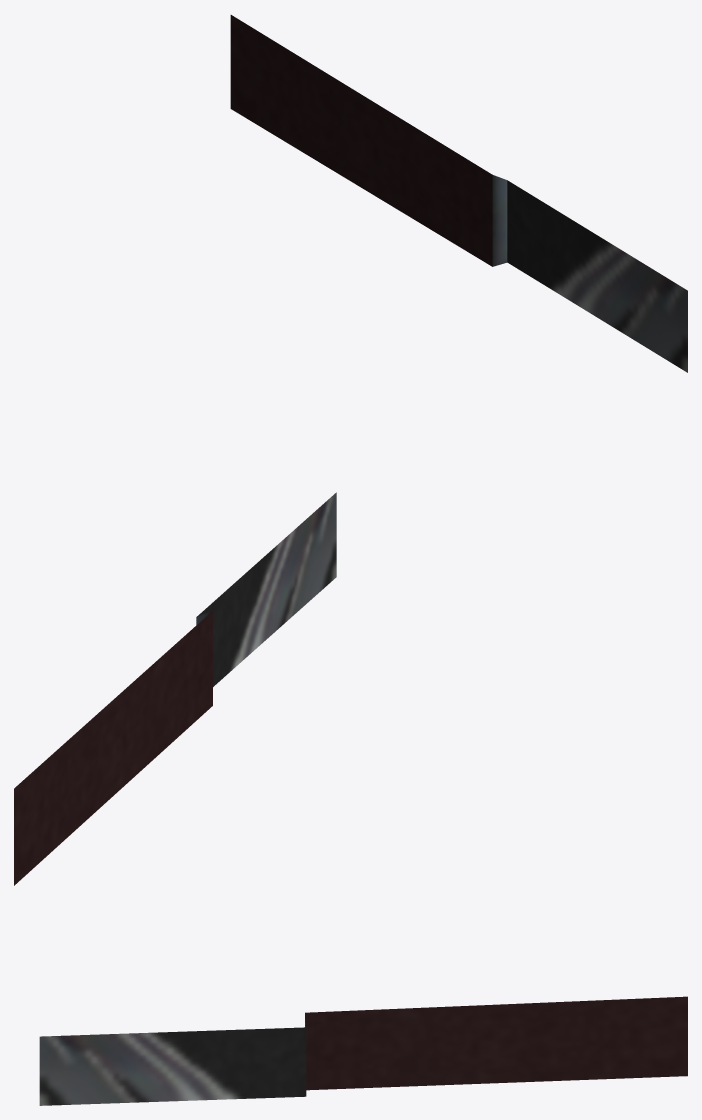
3 views of the same model, one above another, from view 1: azimuth 30°, elevation 25°; view 2: azimuth 150°, elevation 25°; view 3: azimuth 270°, elevation 25° (orthographic). The views are drawn at different scales.
Parts seen in each view (by area): view 1: 5_0.glb_1; view 2: 5_0.glb_1; view 3: 5_0.glb_1.
Part boxes in pixels (x1,y1,x2,y2): 5_0.glb_1: [230, 15, 687, 372]; 5_0.glb_1: [14, 492, 336, 885]; 5_0.glb_1: [39, 996, 687, 1105].
Bounding box in the file's own units: 9.94 × 2.58 × 19.82.
Materials: 1 (1 with a texture image).
